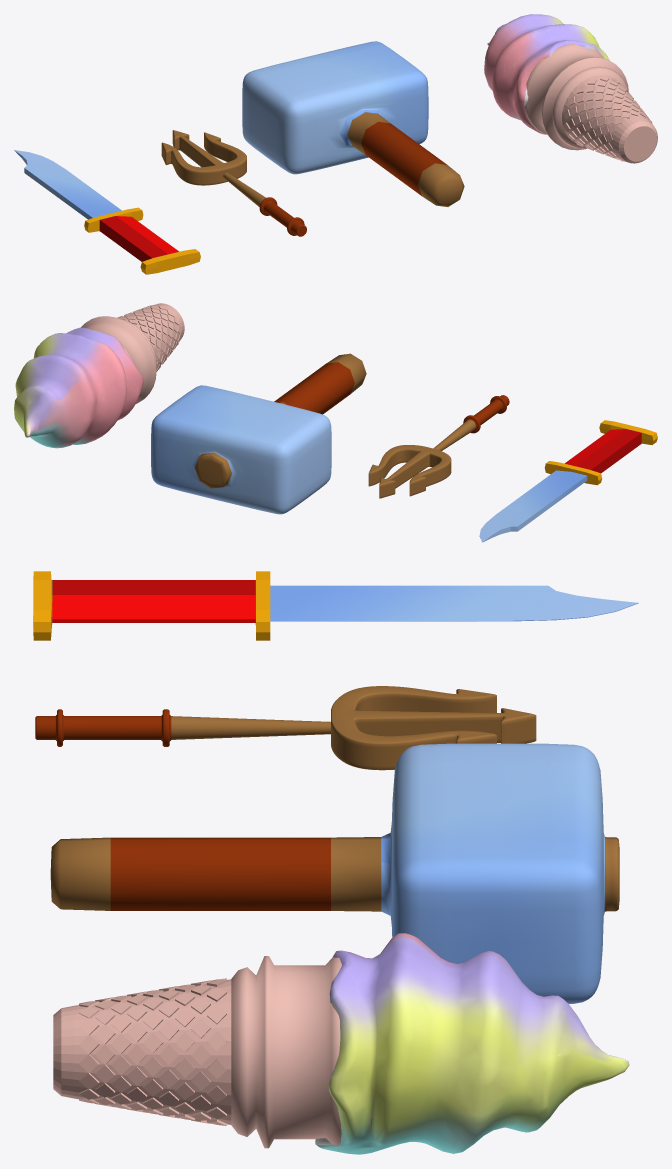
File: throwing.fbx
The picture shows the model from 3 angles, top to bottom: view 1: azimuth 30°, elevation 25°; view 2: azimuth 150°, elevation 25°; view 3: azimuth 270°, elevation 25°; orthographic projection. The views are drawn at different scales.
Visible parts, largest first — view 1: Hammer, Ice CreamCone, Knife, Ice Cream, Trident; view 2: Hammer, Ice Cream, Knife, Ice CreamCone, Trident; view 3: Hammer, Ice Cream, Ice CreamCone, Knife, Trident.
Part boxes in pixels (bbox=[...]): Hammer: bbox=[242, 41, 464, 206]; Ice CreamCone: bbox=[524, 44, 657, 163]; Knife: bbox=[14, 150, 200, 274]; Ice Cream: bbox=[484, 14, 609, 134]; Trident: bbox=[161, 130, 306, 236]; Hammer: bbox=[151, 353, 366, 514]; Ice Cream: bbox=[14, 327, 143, 448]; Knife: bbox=[479, 420, 657, 542]; Ice CreamCone: bbox=[81, 303, 184, 403]; Trident: bbox=[368, 395, 509, 498]; Hammer: bbox=[50, 743, 619, 1003]; Ice Cream: bbox=[315, 933, 629, 1154]; Ice CreamCone: bbox=[53, 956, 341, 1148]; Knife: bbox=[33, 571, 638, 640]; Trident: bbox=[35, 686, 536, 770].
Bounding box in the file's own units: 401 × 70.67 × 197.
